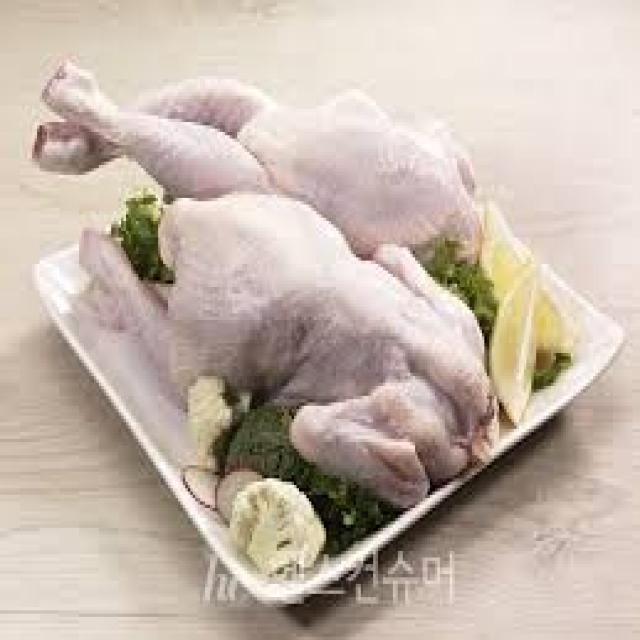chicken: (20, 44, 513, 516)
